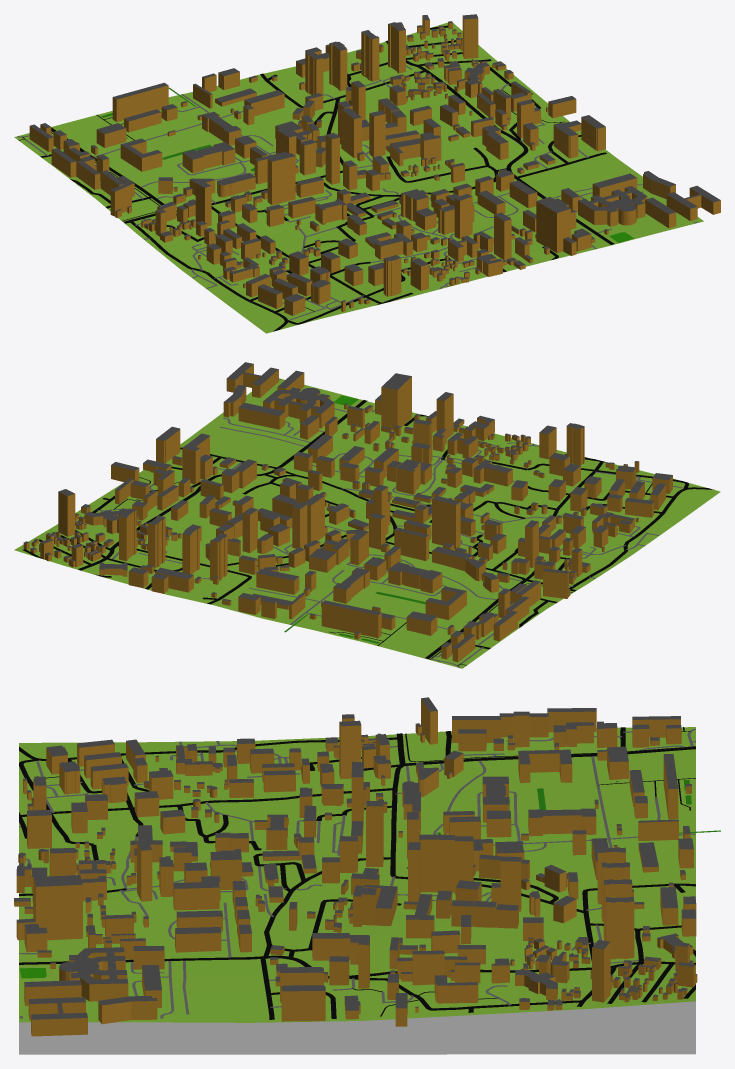
Rendered from tile_11_04.glb.
The picture shows the model from 3 angles, top to bottom: view 1: azimuth 30°, elevation 25°; view 2: azimuth 150°, elevation 25°; view 3: azimuth 270°, elevation 25°; orthographic projection. The views are drawn at different scales.
Parts seen in each view (by area): view 1: Ub_small.osm_buildings_11_04, Terrain_11_04, Ub_small.osm_roads_residential_11_04, Ub_small.osm_roads_service_11_04, Ub_small.osm_roads_secondary_11_04, Ub_small.osm_roads_unclassified_11_04; view 2: Ub_small.osm_buildings_11_04, Terrain_11_04, Ub_small.osm_roads_residential_11_04, Ub_small.osm_roads_service_11_04, Ub_small.osm_roads_secondary_11_04, Ub_small.osm_roads_unclassified_11_04; view 3: Ub_small.osm_buildings_11_04, Terrain_11_04, Ub_small.osm_roads_residential_11_04, Ub_small.osm_roads_service_11_04, Ub_small.osm_roads_secondary_11_04, Ub_small.osm_paths_footway_11_04.
Boxes of the visible parts, x1,y1,x2,y2 form: Ub_small.osm_buildings_11_04: (29, 14, 720, 315); Terrain_11_04: (14, 22, 703, 333); Ub_small.osm_roads_residential_11_04: (40, 25, 606, 324); Ub_small.osm_roads_service_11_04: (17, 65, 697, 320); Ub_small.osm_roads_secondary_11_04: (51, 40, 614, 244); Ub_small.osm_roads_unclassified_11_04: (130, 221, 287, 331); Ub_small.osm_buildings_11_04: (23, 362, 672, 662); Terrain_11_04: (14, 378, 720, 668); Ub_small.osm_roads_residential_11_04: (22, 414, 688, 649); Ub_small.osm_roads_service_11_04: (97, 378, 682, 667); Ub_small.osm_roads_secondary_11_04: (78, 400, 576, 658); Ub_small.osm_roads_unclassified_11_04: (569, 487, 714, 588); Ub_small.osm_buildings_11_04: (14, 697, 697, 1036); Terrain_11_04: (19, 727, 695, 1054); Ub_small.osm_roads_residential_11_04: (19, 727, 695, 1019); Ub_small.osm_roads_service_11_04: (19, 729, 695, 1018); Ub_small.osm_roads_secondary_11_04: (19, 733, 695, 978); Ub_small.osm_paths_footway_11_04: (46, 727, 695, 1016).
Bounding box in the file's own units: 984 × 153 × 972.
